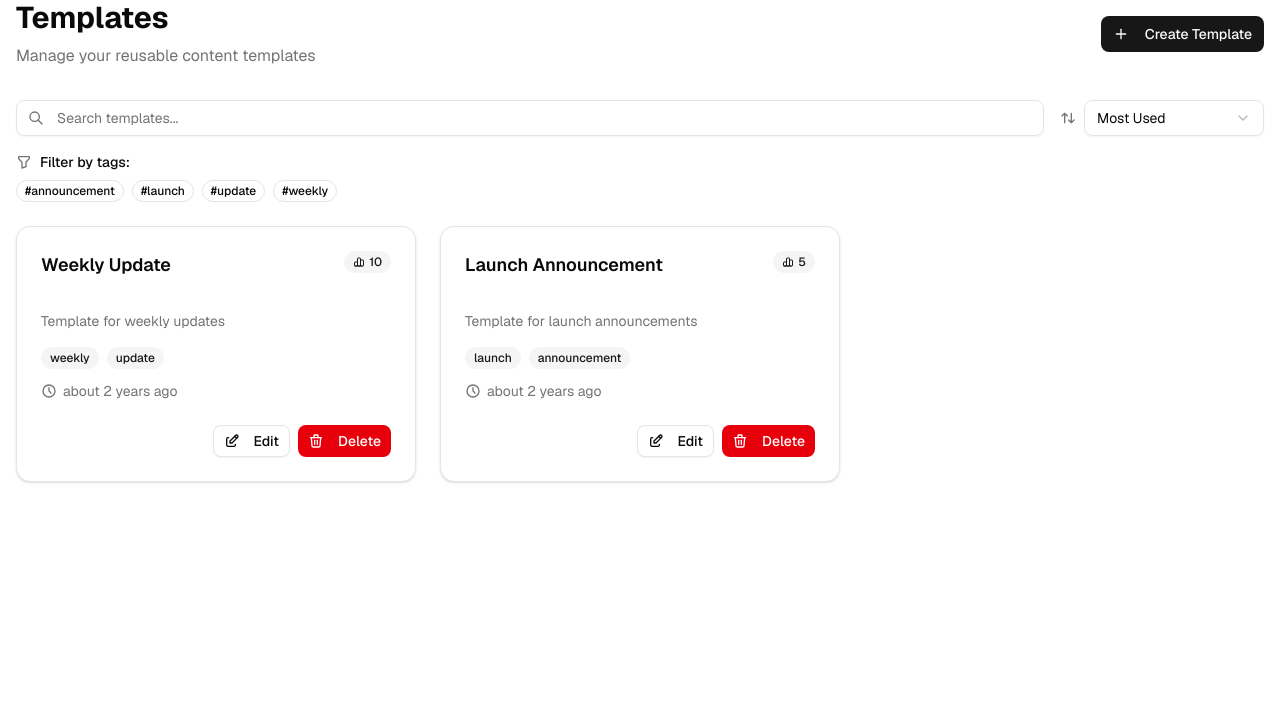
TemplateLibrary Component › Delete Template › should disable buttons during delete operation
// Open delete dialog
Click the button "Delete" below "Template for weekly updates" at coordinates (344, 441), box [298,425,391,457]
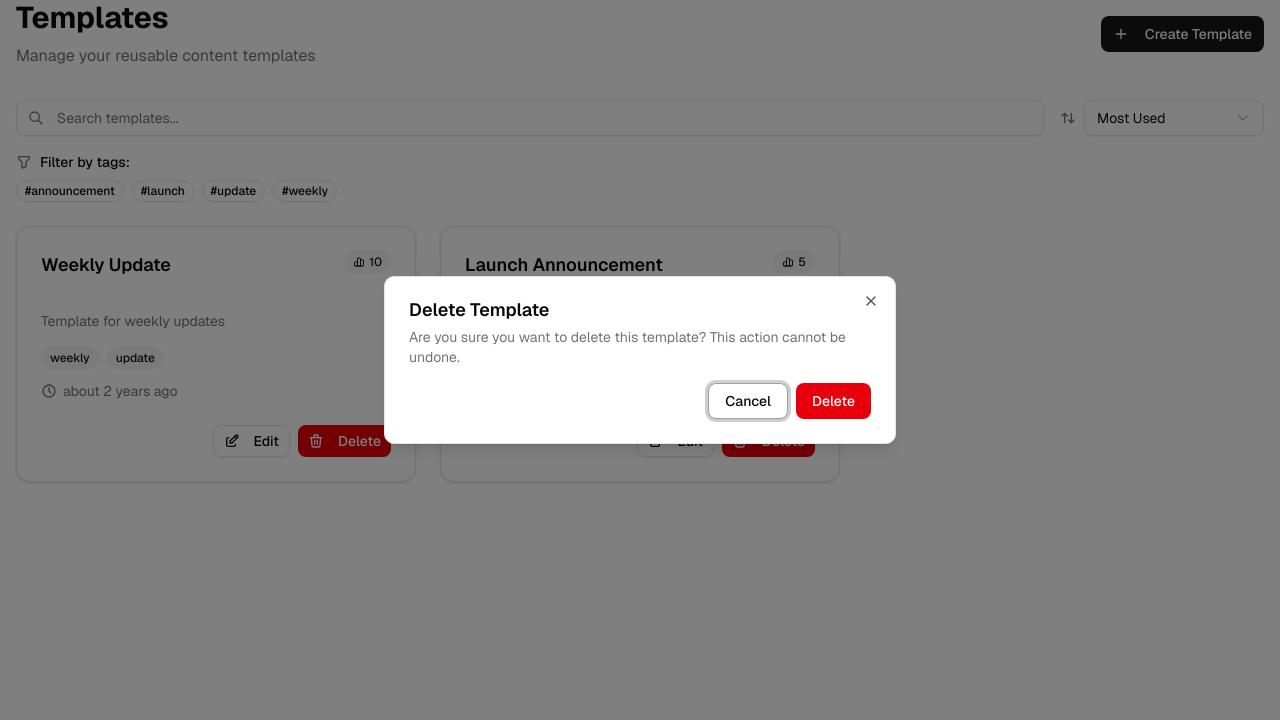
// Confirm delete
Click the button "Delete" at coordinates (833, 401), box [796,383,871,419]
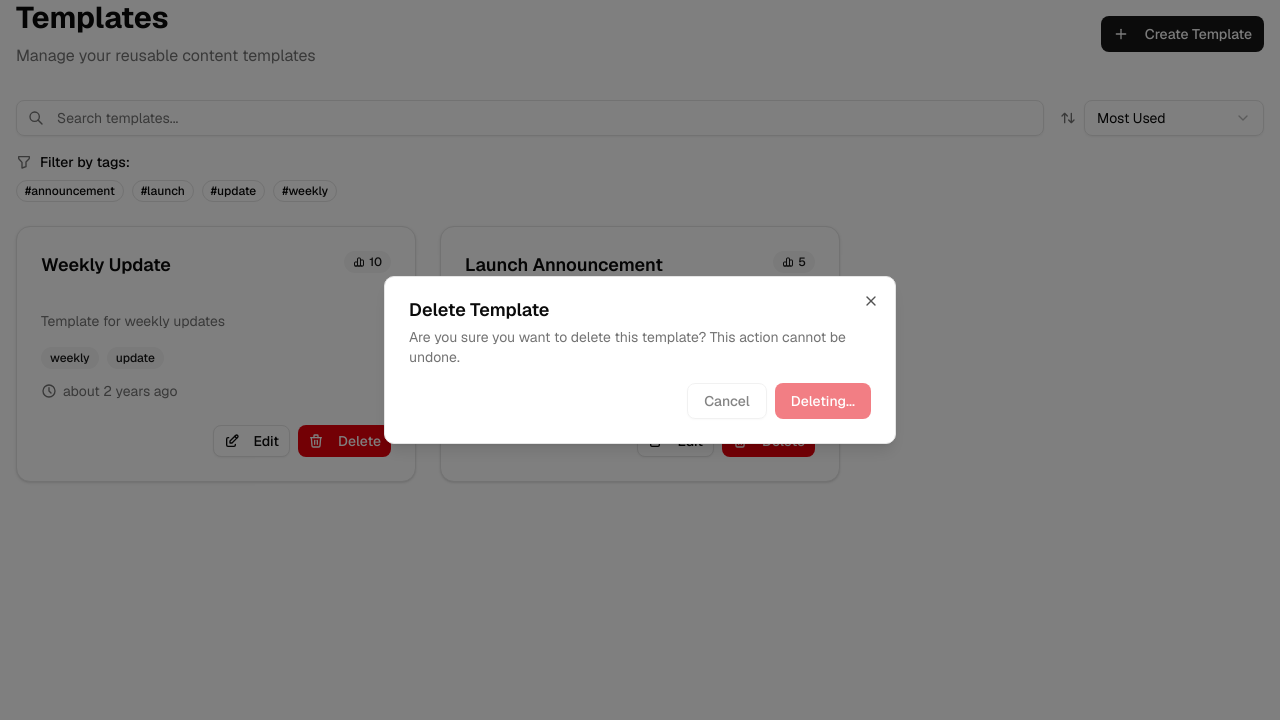
Expected: the button "Cancel" is disabled, [687,383,767,419]
Expected: the button "Deleting..." is disabled, [775,383,871,419]
